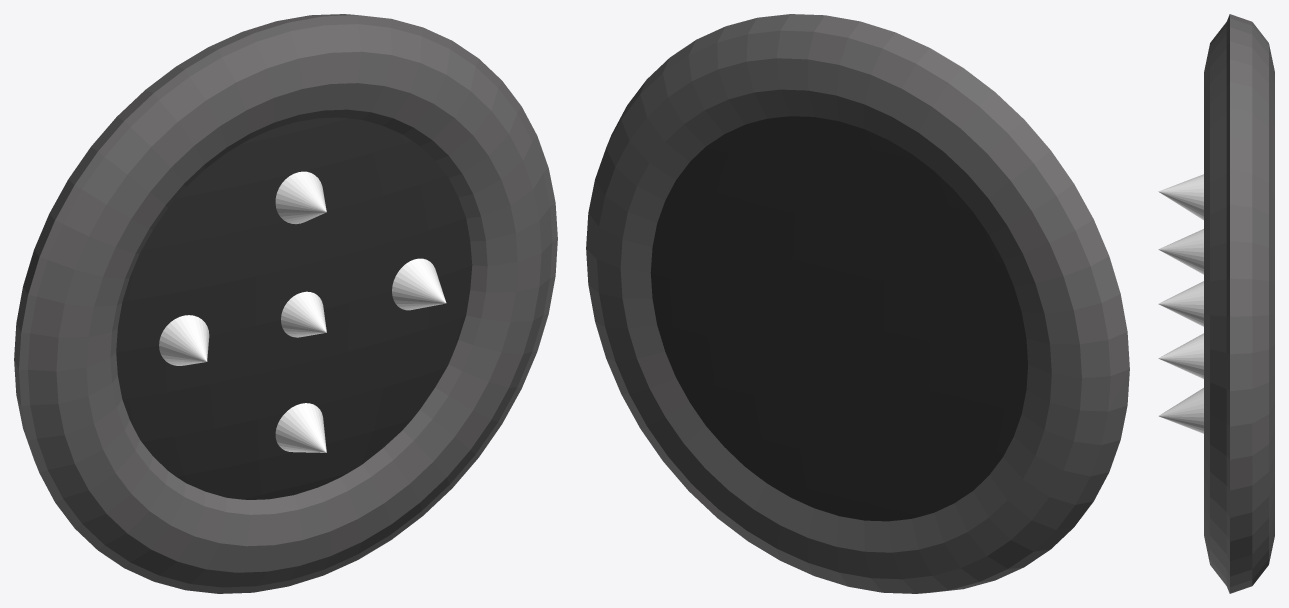
Rendered from E_Shield.obj.
The picture shows the model from 3 angles, left to right: view 1: azimuth 30°, elevation 25°; view 2: azimuth 150°, elevation 25°; view 3: azimuth 270°, elevation 25°; orthographic projection. The views are drawn at different scales.
Parts seen in each view (by area): view 1: トーラス; view 2: トーラス; view 3: トーラス.
Boxes of the visible parts, left/top/right/bottom form: トーラス: left=14, top=14, right=557, bottom=593; トーラス: left=586, top=14, right=1129, bottom=593; トーラス: left=1158, top=14, right=1274, bottom=593.
Bounding box in the file's own units: 1.01 × 1.01 × 0.204.
